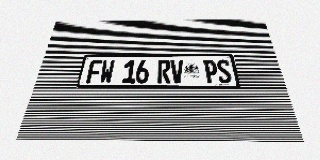1: (122, 60, 137, 83)
6: (135, 60, 149, 83)
F: (86, 60, 102, 83)
P: (203, 60, 219, 83)
R: (158, 60, 171, 83)
S: (216, 60, 233, 83)
V: (171, 60, 184, 83)
W: (99, 60, 115, 83)
